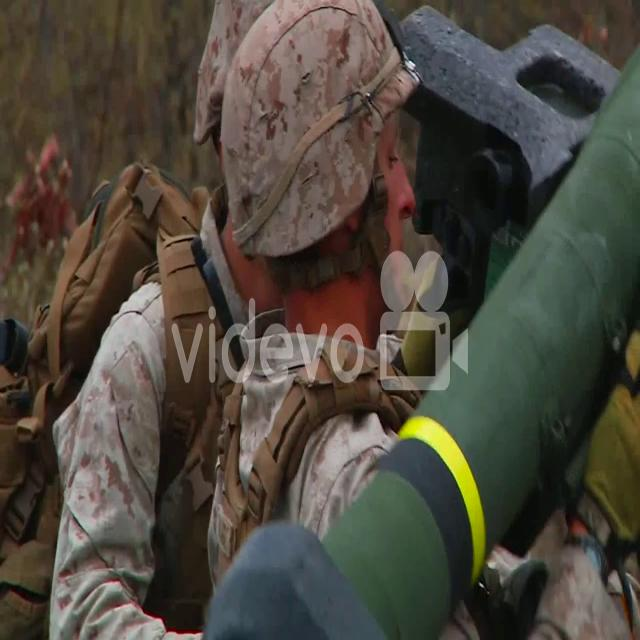bazooka: (202, 17, 640, 640)
